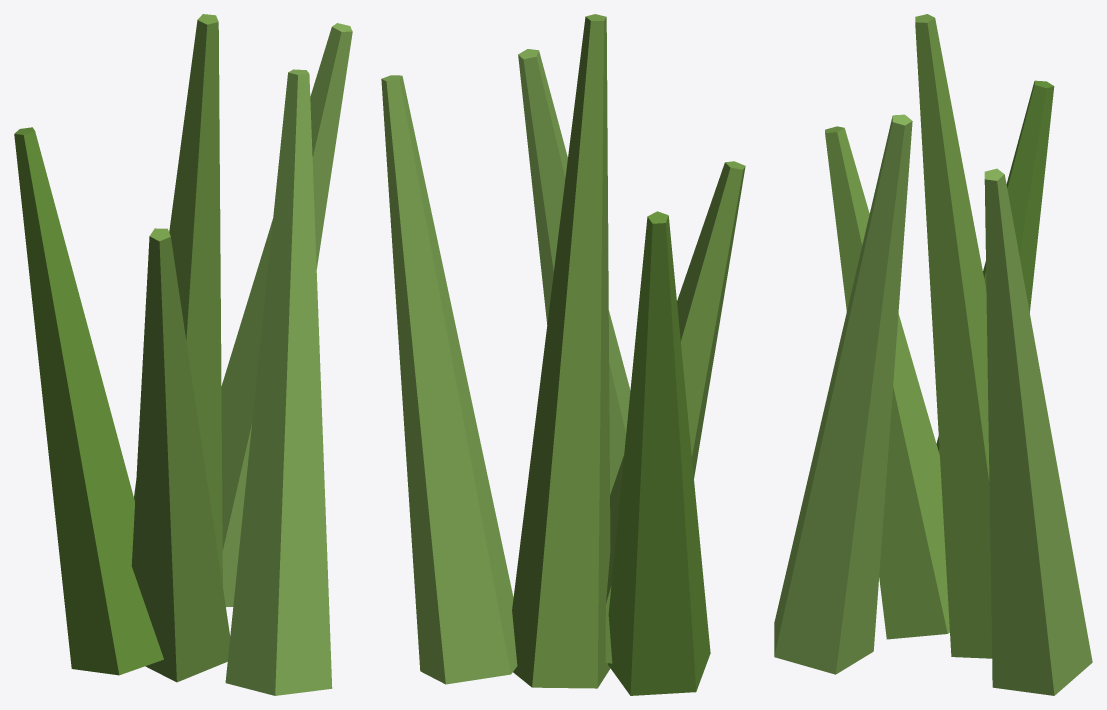
The model's file is fiber.glb.
3 views of the same model, side by side, from view 1: azimuth 30°, elevation 25°; view 2: azimuth 150°, elevation 25°; view 3: azimuth 270°, elevation 25° (orthographic).
Visible parts, largest first — view 1: fiber; view 2: fiber; view 3: fiber.
Boxes of the visible parts, left/top/right/bottom form: fiber: left=14, top=14, right=352, bottom=695; fiber: left=381, top=14, right=745, bottom=695; fiber: left=774, top=14, right=1092, bottom=695.
Size of the model in its own units: 0.3181 by 0.6244 by 0.287.
